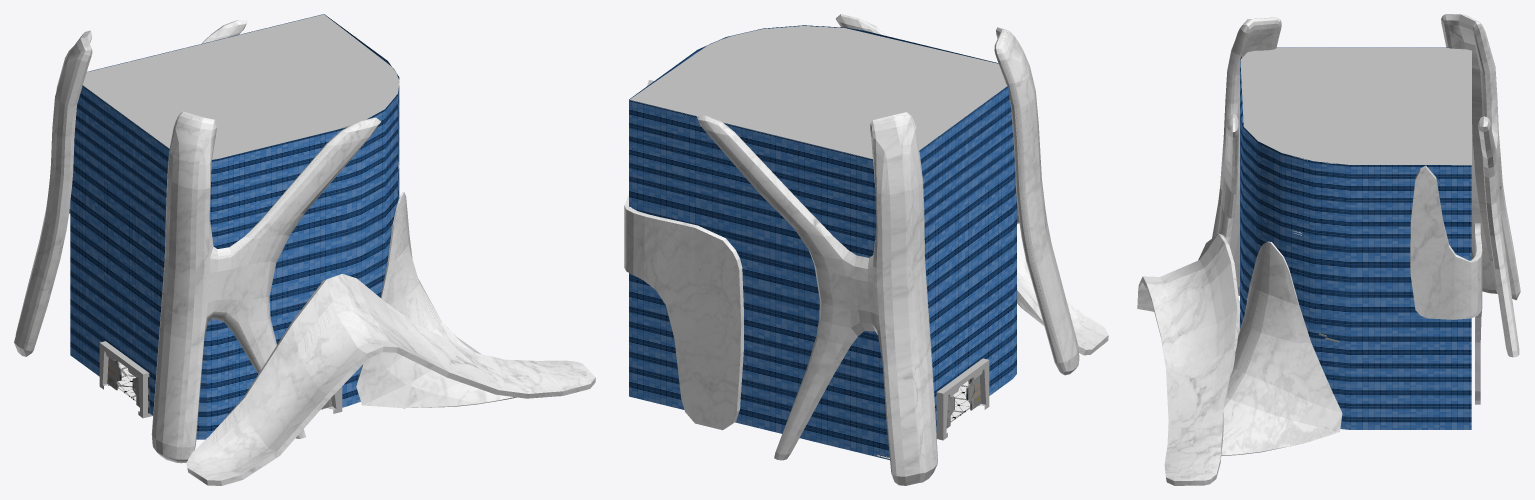
The model's file is physics building.fbx.
3 renders of one model, left to right at view 1: azimuth 30°, elevation 25°; view 2: azimuth 150°, elevation 25°; view 3: azimuth 270°, elevation 25°, orthographic. The views are drawn at different scales.
Visible parts, largest first — view 1: physics_building; view 2: physics_building; view 3: physics_building.
Part boxes in pixels (x1,y1,x2,y2): physics_building: (14, 14, 595, 485); physics_building: (624, 14, 1108, 485); physics_building: (1137, 14, 1520, 485).
Bounding box in the file's own units: 41.88 × 31.47 × 35.42.
